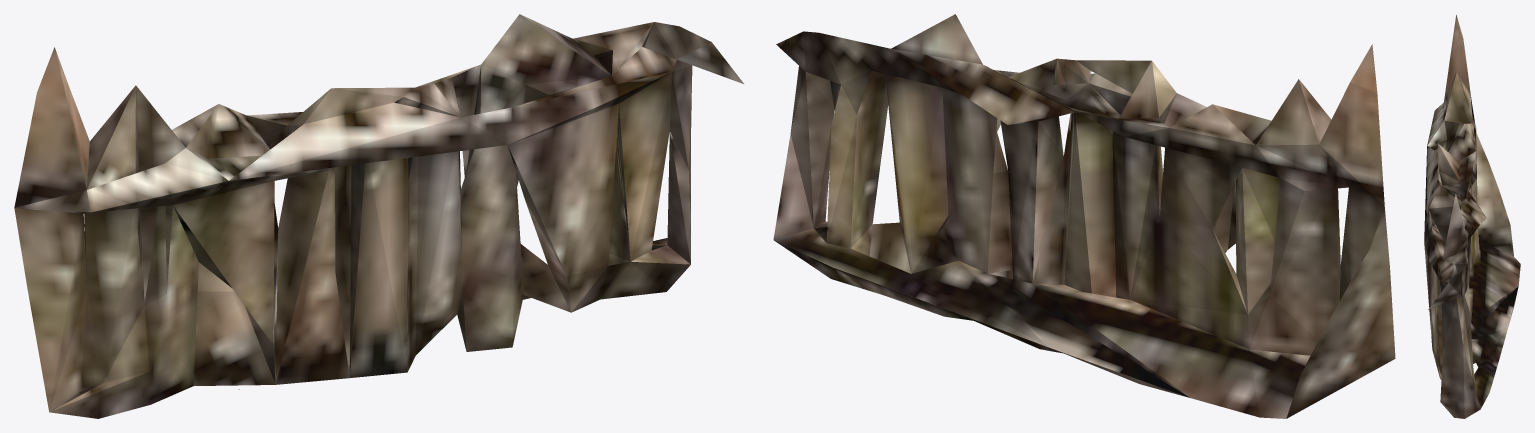
The model's file is ga3_palisade_lod2.glb.
The picture shows the model from 3 angles, left to right: view 1: azimuth 30°, elevation 25°; view 2: azimuth 150°, elevation 25°; view 3: azimuth 270°, elevation 25°; orthographic projection. The views are drawn at different scales.
Parts seen in each view (by area): view 1: ga3_palisade_lod2; view 2: ga3_palisade_lod2; view 3: ga3_palisade_lod2.
Part boxes in pixels (bbox=[...]): ga3_palisade_lod2: bbox=[14, 14, 743, 418]; ga3_palisade_lod2: bbox=[773, 14, 1395, 418]; ga3_palisade_lod2: bbox=[1424, 15, 1520, 418].
Bounding box in the file's own units: 2.99 × 1.66 × 0.6189.
Materials: 1 (1 with a texture image).
